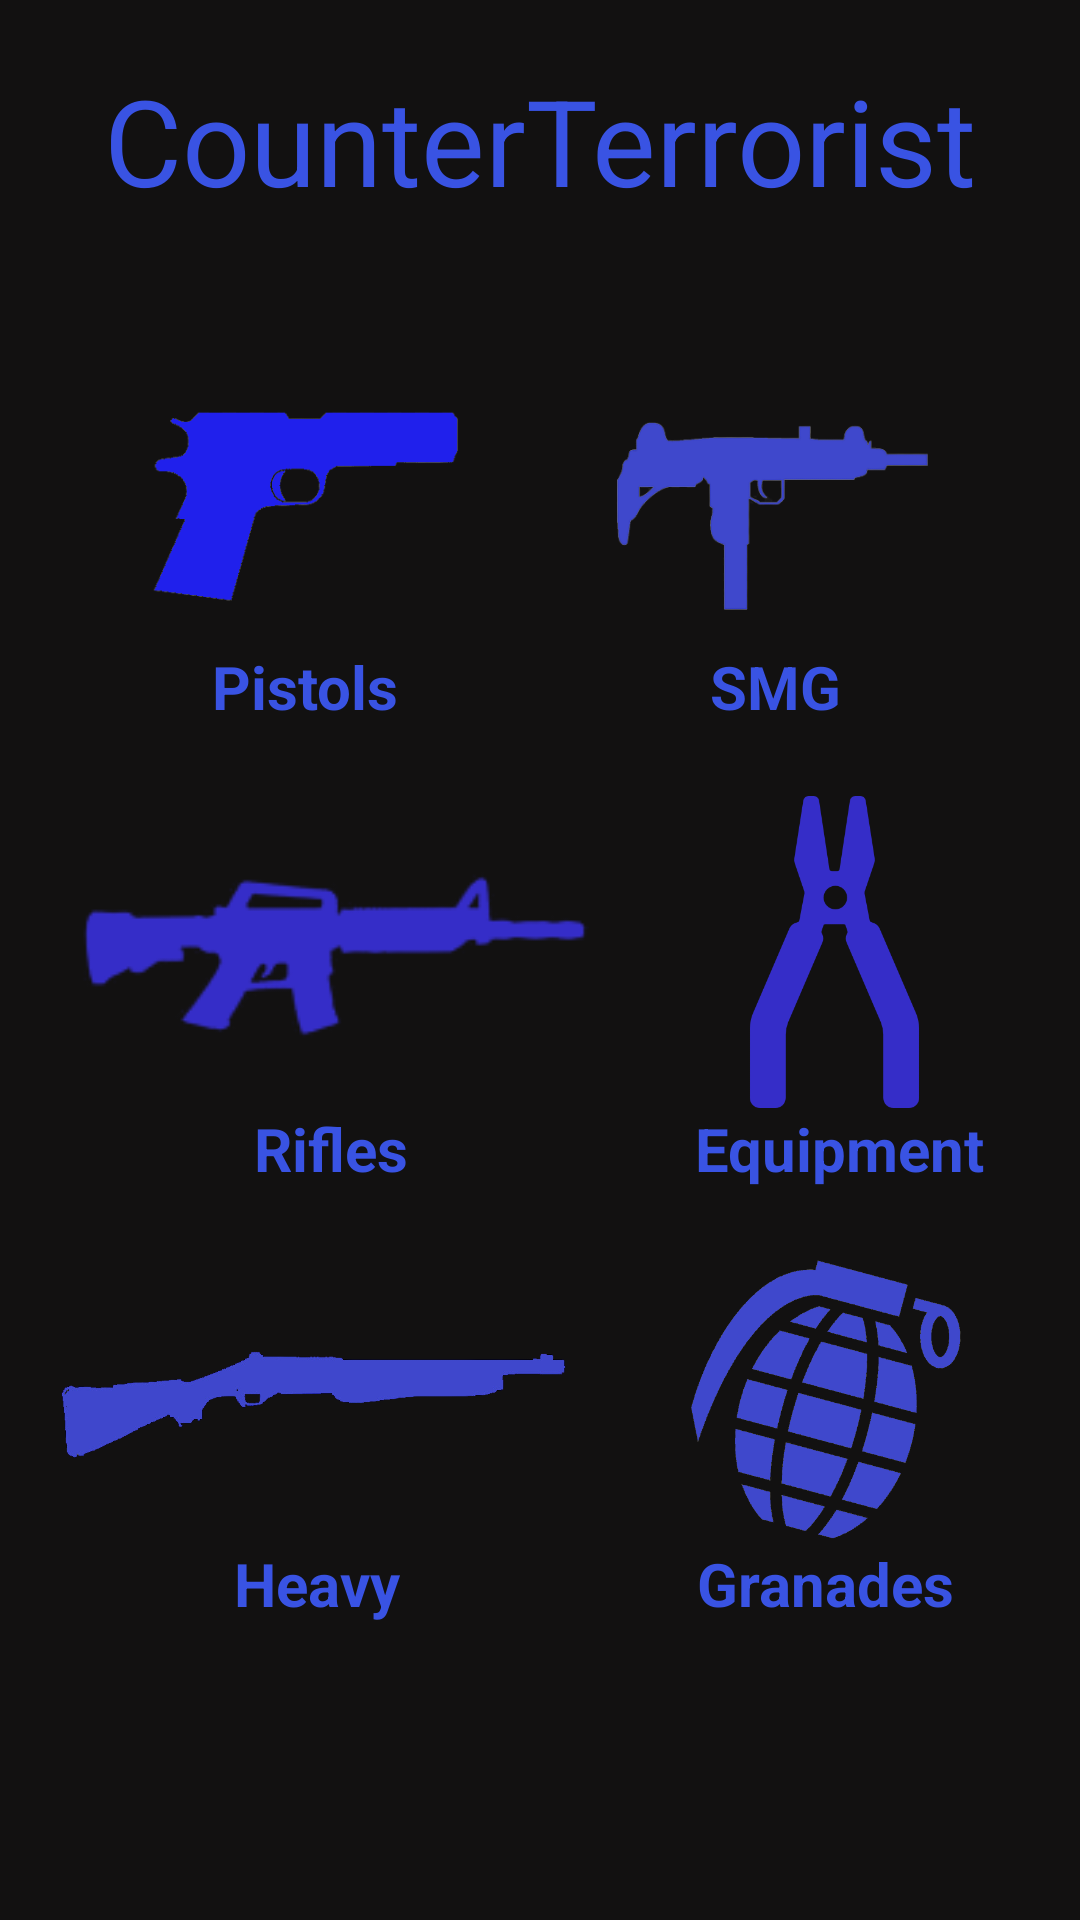

Icons on this 1080 x 1920 Android screen, each with its box as (x1=x1, y1=y1, x2=x2, y2=y2):
defuse: (x1=750, y1=796, x2=919, y2=1108)
